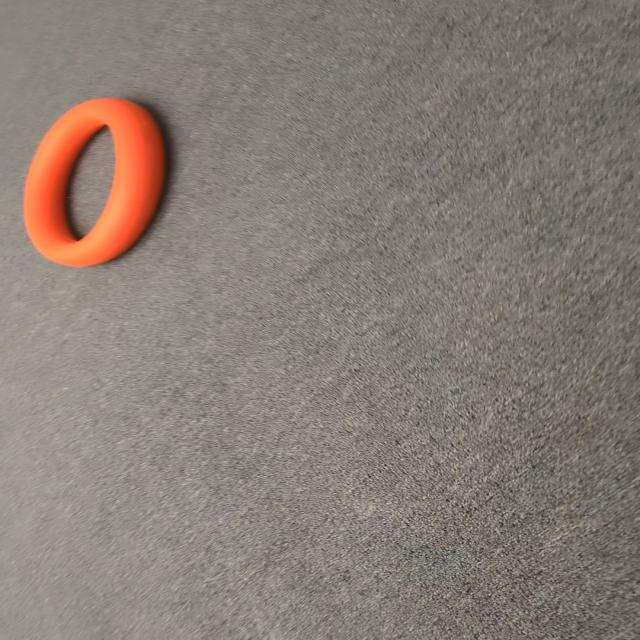note: (22, 97, 166, 266)
